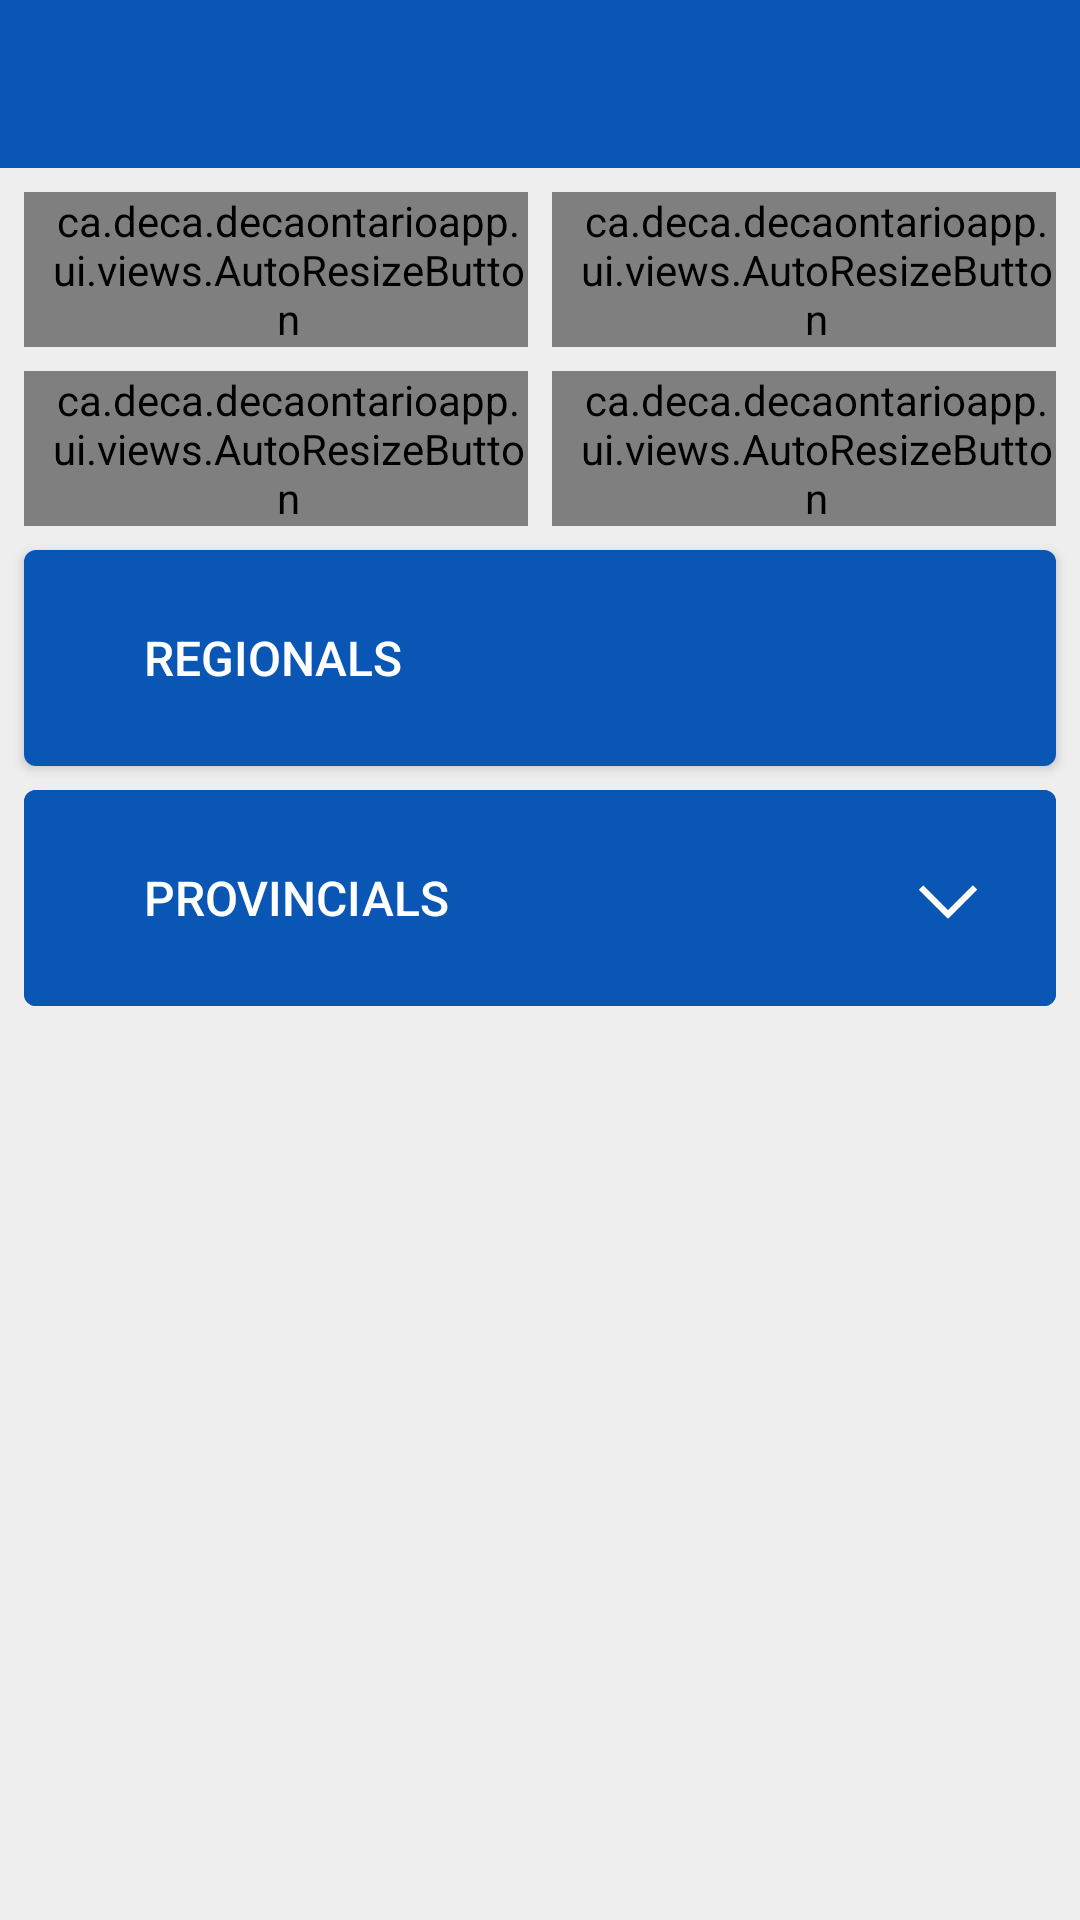

Screen size 1080 × 1920. Icon name, then its center in pixels as [x,y]:
arrow: [948,902]
